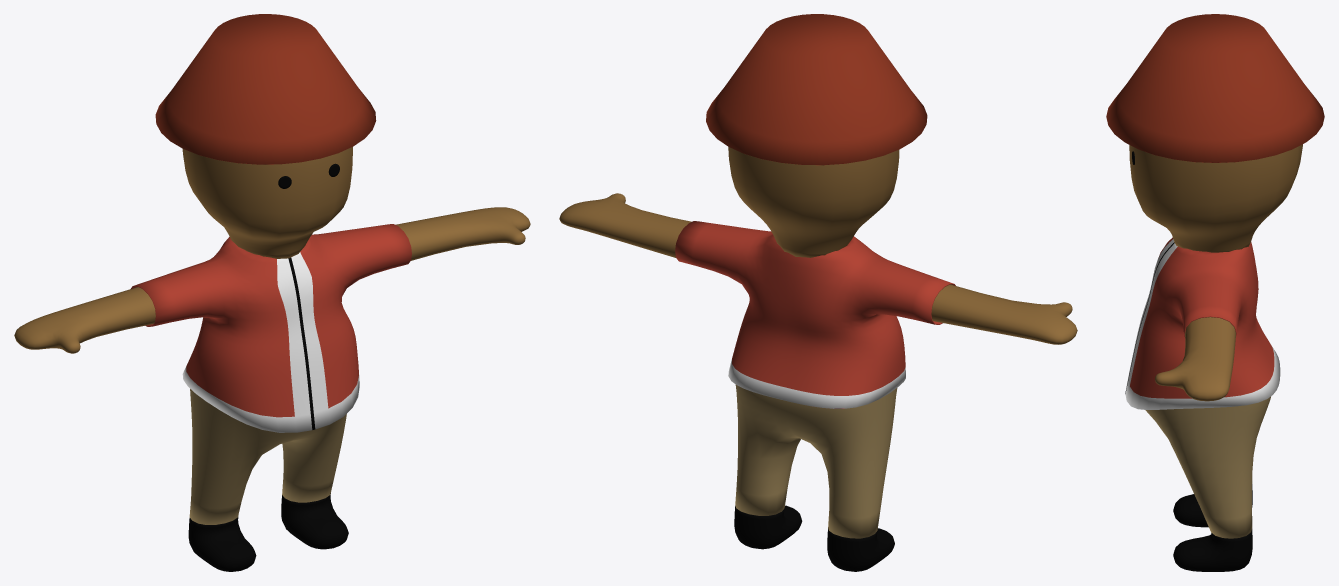
Rendered from npc_grow.glb.
3 views of the same model, side by side, from view 1: azimuth 30°, elevation 25°; view 2: azimuth 150°, elevation 25°; view 3: azimuth 270°, elevation 25° (orthographic).
Parts seen in each view (by area): view 1: badan.002; view 2: badan.002; view 3: badan.002.
Part boxes in pixels (x1,y1,x2,y2): badan.002: [14, 14, 530, 571]; badan.002: [559, 14, 1077, 571]; badan.002: [1106, 14, 1324, 571].
Bounding box in the file's own units: 7.48 × 7.25 × 2.83.
